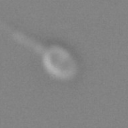normal: (1, 17, 44, 51)
